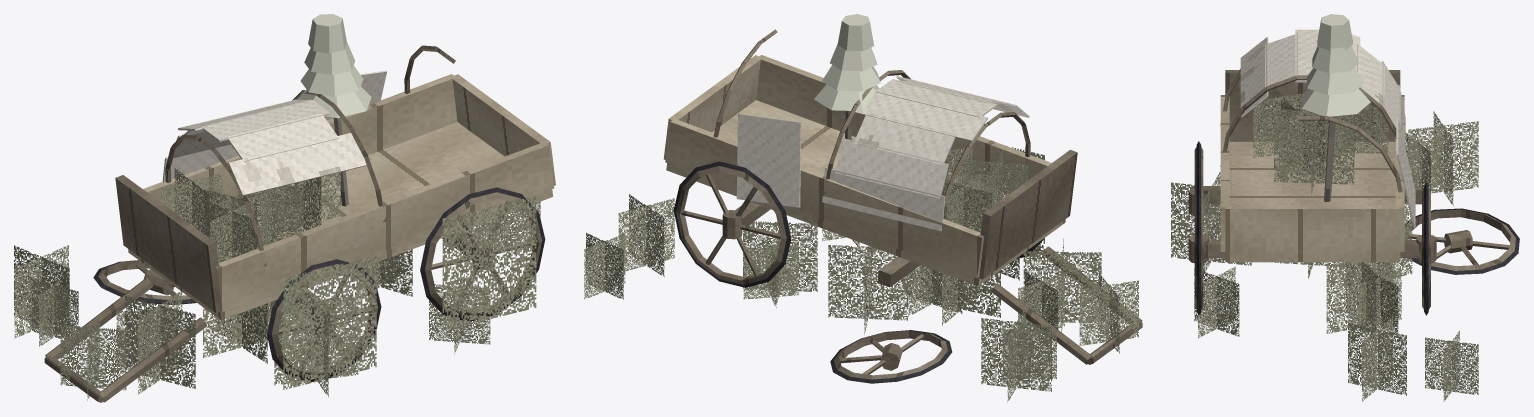
The model's file is wagon_overgrown.obj.
3 renders of one model, left to right at view 1: azimuth 30°, elevation 25°; view 2: azimuth 150°, elevation 25°; view 3: azimuth 270°, elevation 25°, orthographic. The views are drawn at different scales.
Parts seen in each view (by area): view 1: wagon_overgrown; view 2: wagon_overgrown; view 3: wagon_overgrown.
Boxes of the visible parts, left/top/right/bottom form: wagon_overgrown: left=14, top=14, right=555, bottom=402; wagon_overgrown: left=584, top=14, right=1142, bottom=402; wagon_overgrown: left=1171, top=14, right=1519, bottom=401.
Bounding box in the file's own units: 3.76 × 2.12 × 2.39.
